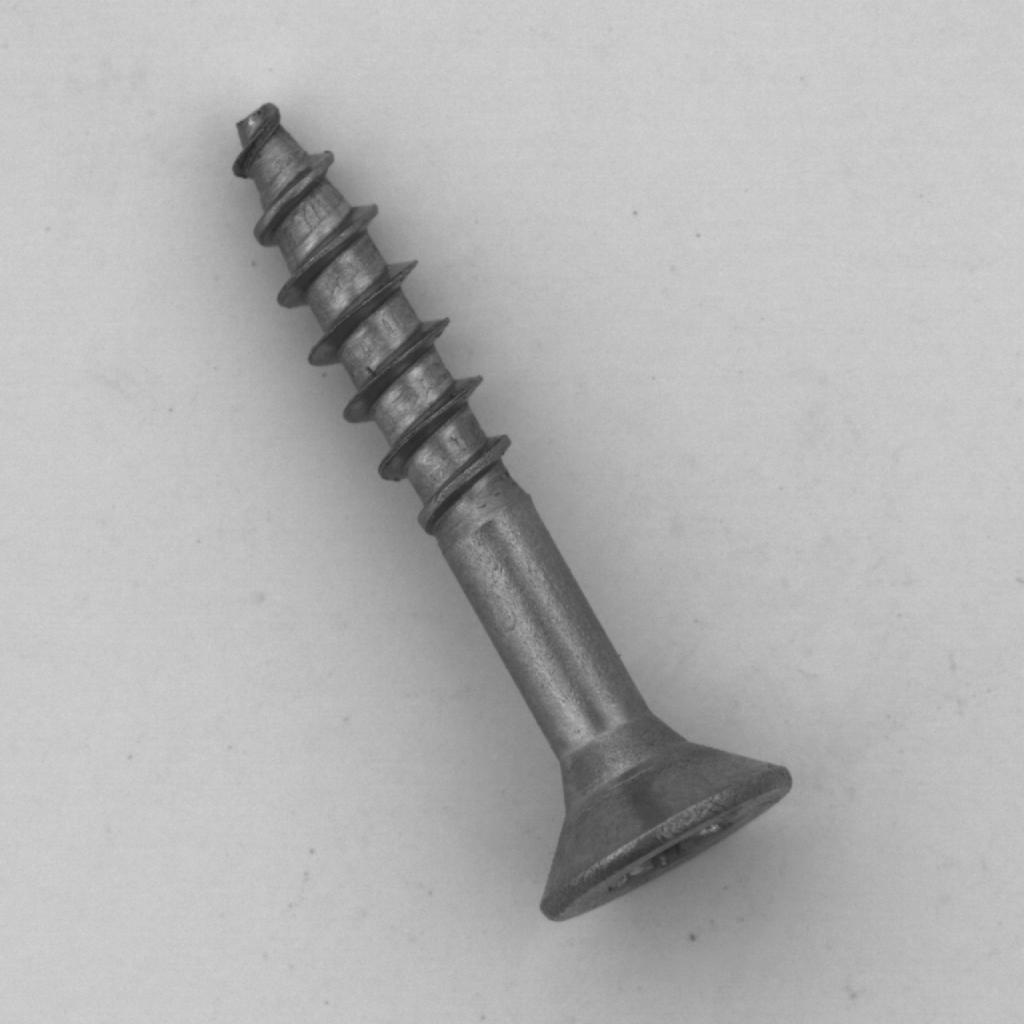manipulated_front: (179, 62, 822, 947)
